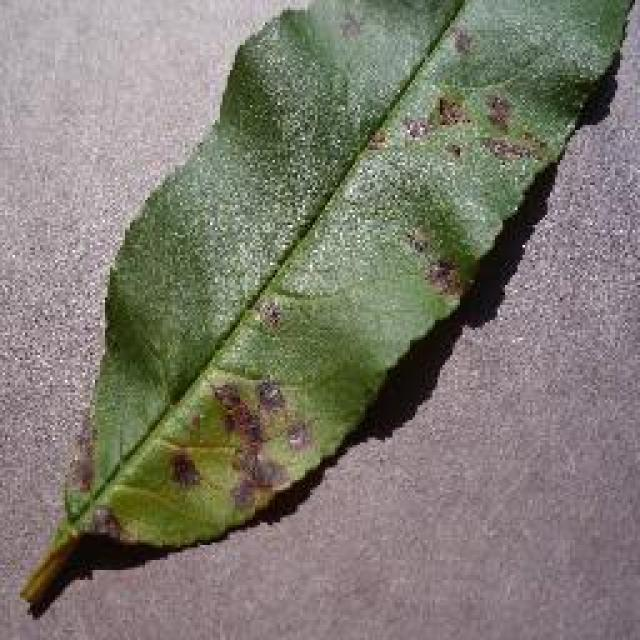Pea_Bacterial_spot: (351, 42, 549, 312), (155, 304, 340, 532)
